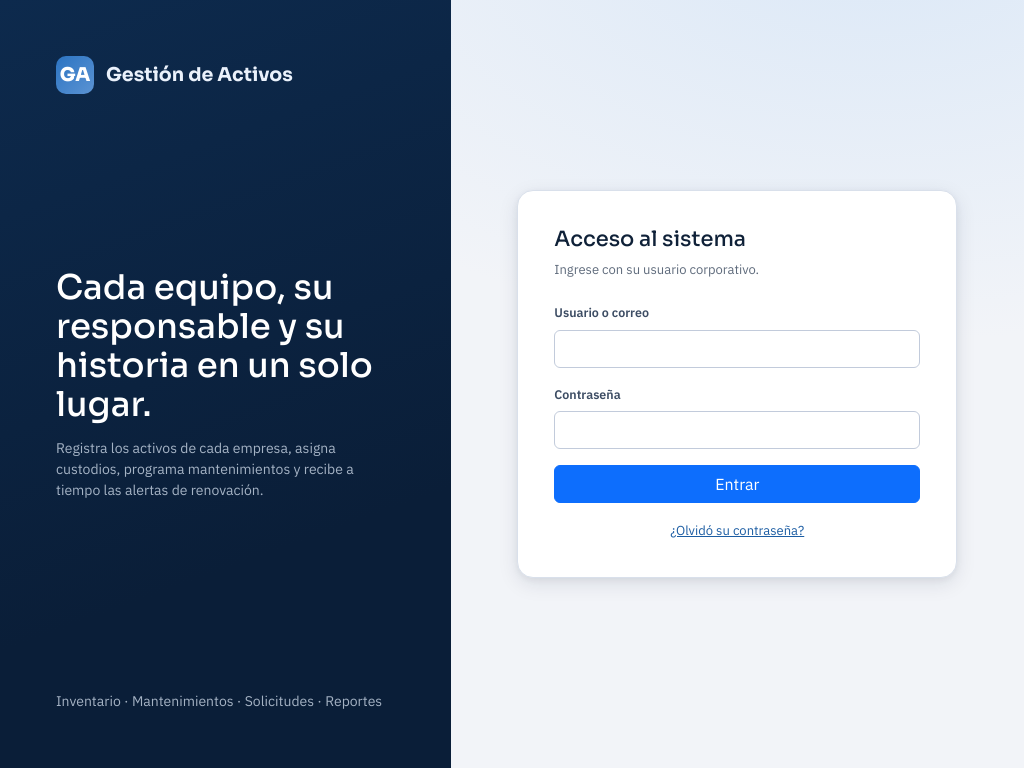
Test: Iniciar sesión › un intento fallido muestra el mensaje del backend, que es siempre el mismo
In the field labelled "Usuario o correo": x=737, y=349 [554,330,920,368], type "acevallos"
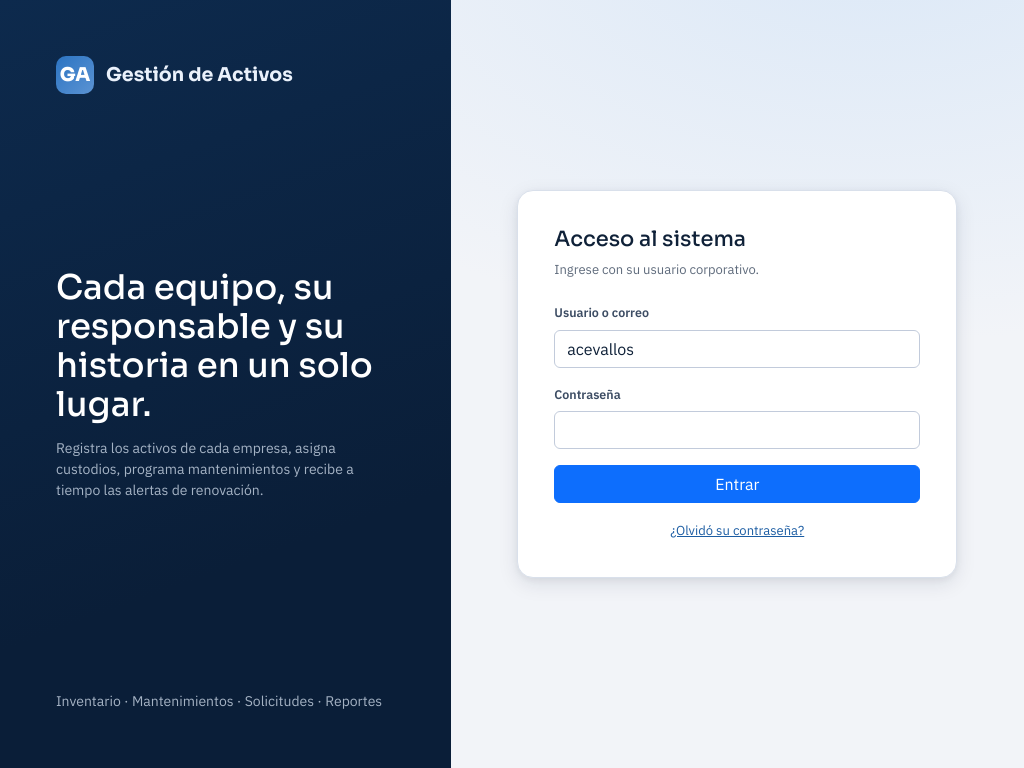
In the password field labelled "Contraseña": x=737, y=430 [554,411,920,449], type "mala"
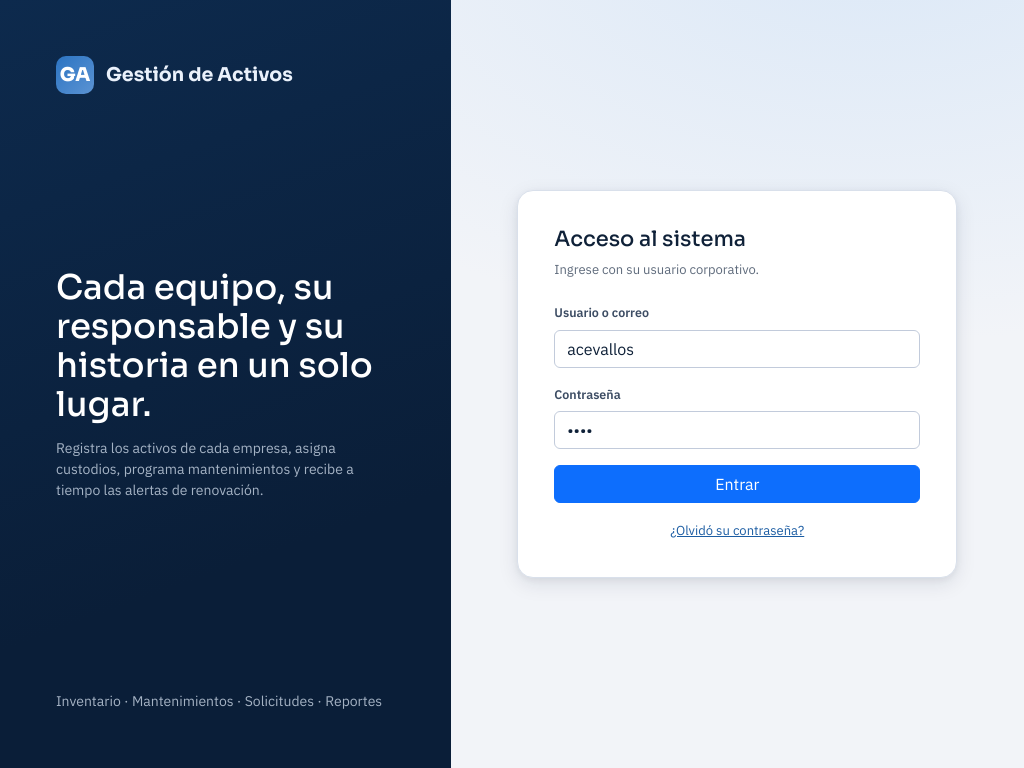
Click the button "Entrar": x=737, y=484 [554,465,920,503]
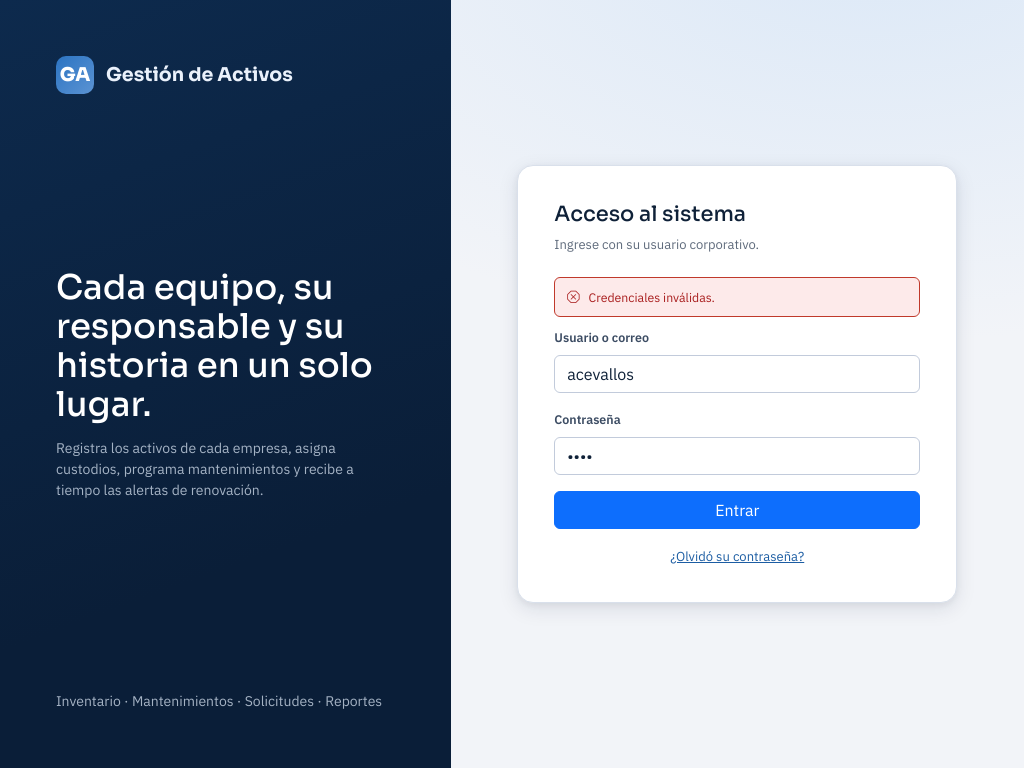
expect the text "Credenciales inválidas." is shown: met, box [554,277,920,317]
